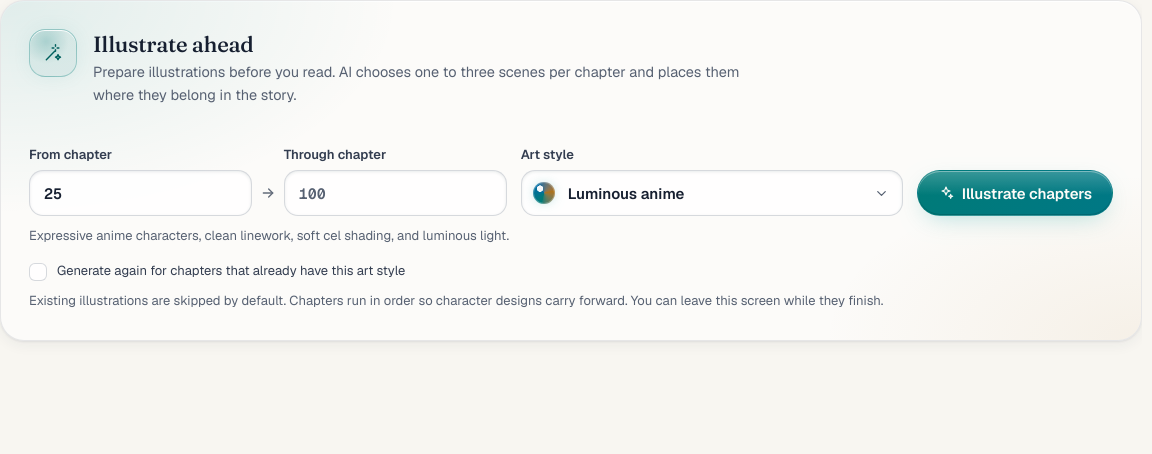
illustrate ahead › rejects an inverted range without starting work
The width and height of the screenshot is (1152, 454).
Type "24" into the number field labelled "Through chapter" at (395, 193), box [284,170,507,216]
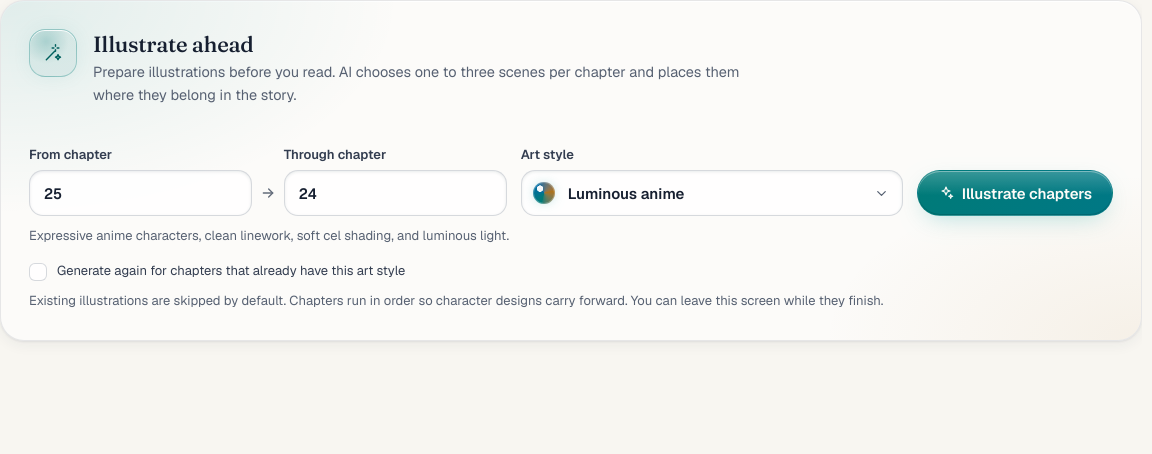
Click the button "Illustrate chapters" at (1015, 193), box [917,170,1113,216]
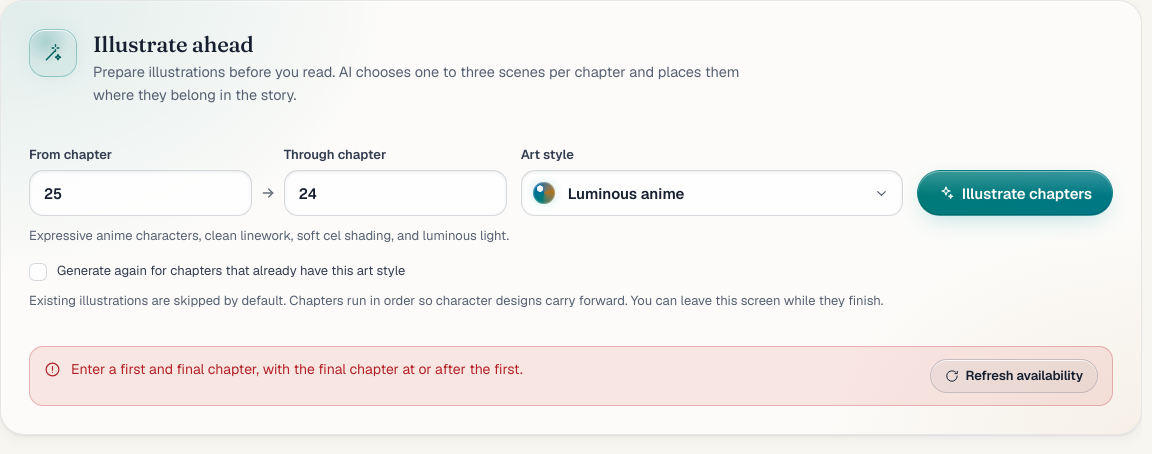
Check: the message shows "final chapter at or after the first", box [71,360,523,378]
